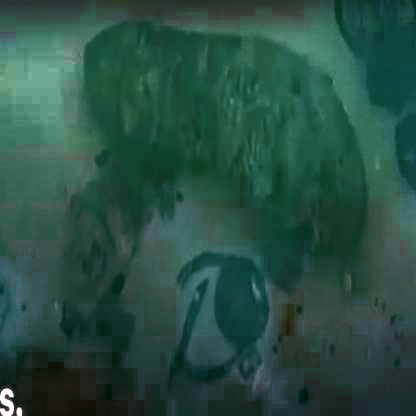misc: (174, 254, 300, 372)
